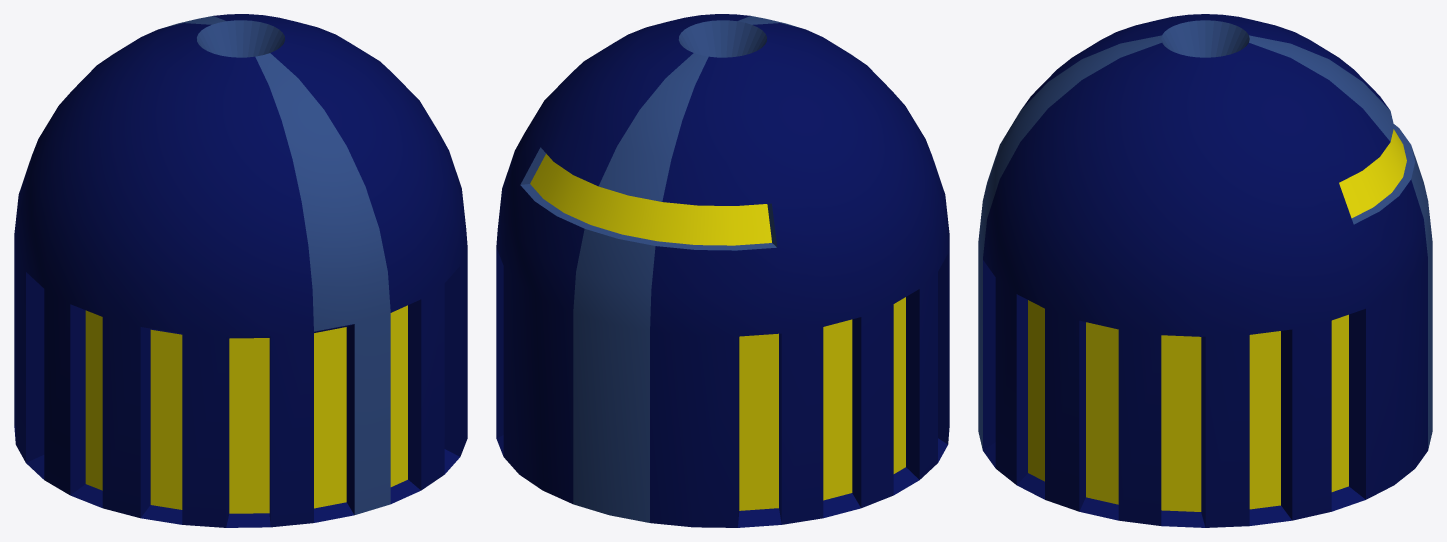
Rendered from Vso_Station_Cannon_GatlingMode_HEAD.fbx.
3 renders of one model, left to right at view 1: azimuth 30°, elevation 25°; view 2: azimuth 150°, elevation 25°; view 3: azimuth 270°, elevation 25°, orthographic.
Parts seen in each view (by area): view 1: Vso_Station_Cannon_GatlingMode_HEAD; view 2: Vso_Station_Cannon_GatlingMode_HEAD; view 3: Vso_Station_Cannon_GatlingMode_HEAD.
Boxes of the visible parts, x1=… form: Vso_Station_Cannon_GatlingMode_HEAD: x1=14, y1=14, x2=467, y2=527; Vso_Station_Cannon_GatlingMode_HEAD: x1=496, y1=14, x2=949, y2=527; Vso_Station_Cannon_GatlingMode_HEAD: x1=978, y1=14, x2=1432, y2=527.
Bounding box in the file's own units: 0.6317 × 0.6034 × 0.6317.
